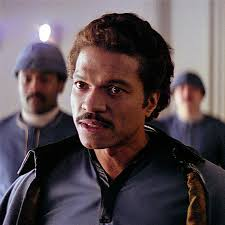black_male: (62, 42, 162, 163)
